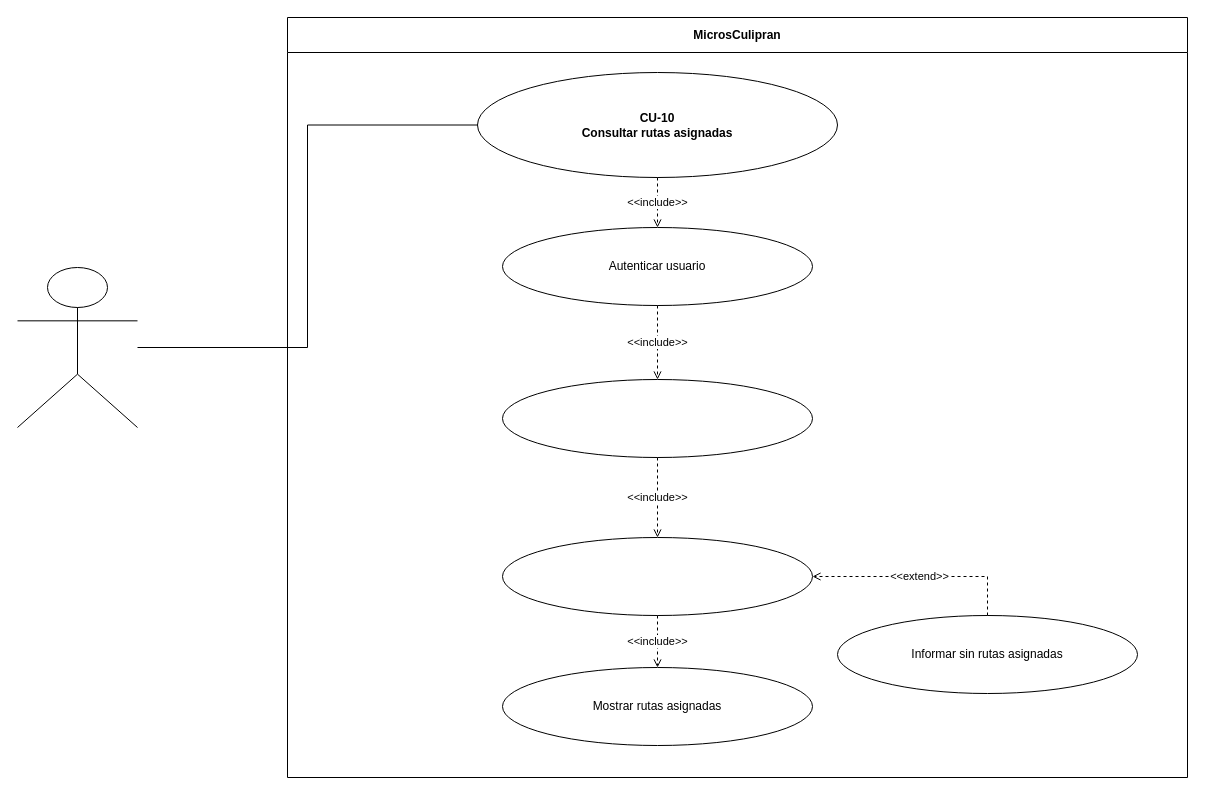
Some shapes in this 1205 by 795 pixel diagram are drawn without their labels. Here are the shapes that lost their labels. From the top down, the centre of each, then its label:
the point at 77,347: Conductor
the point at 657,418: Identificar conductor
the point at 657,576: Consultar rutas asociadas
